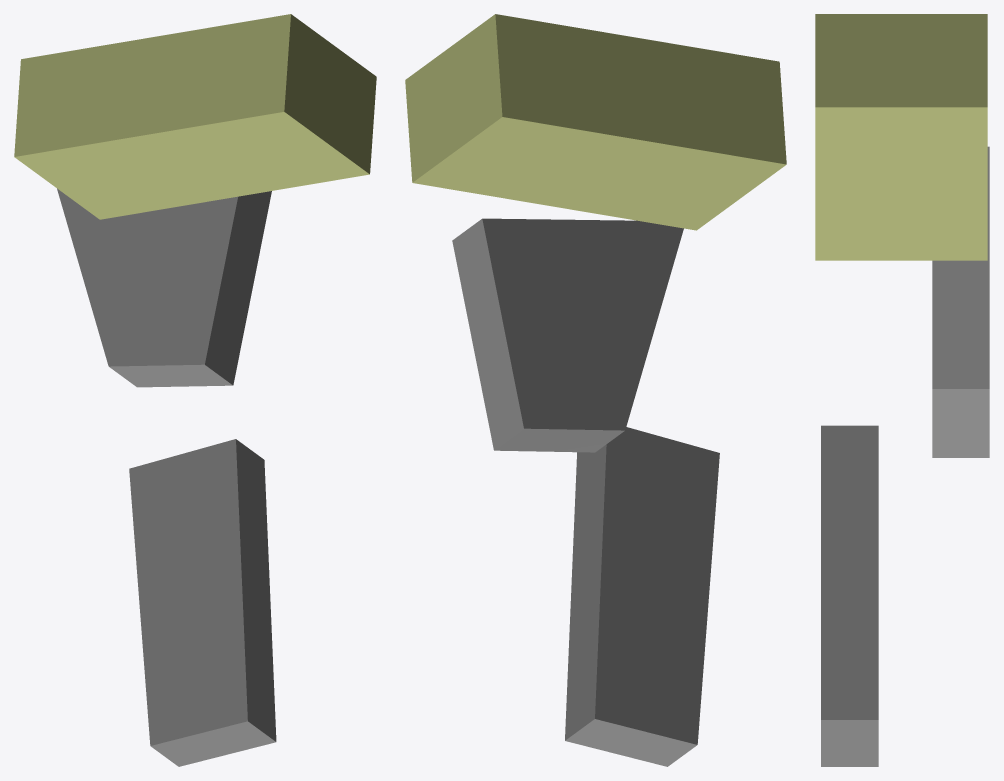
3 views of the same model, side by side, from view 1: azimuth 30°, elevation 25°; view 2: azimuth 150°, elevation 25°; view 3: azimuth 270°, elevation 25° (orthographic). The views are drawn at different scales.
Visible parts, largest first — view 1: 0_3_1_3_3_0_3_2_2; view 2: 0_3_1_3_3_0_3_2_2; view 3: 0_3_1_3_3_0_3_2_2.
Part boxes in pixels (x1,y1,x2,y2): 0_3_1_3_3_0_3_2_2: (14,14,376,766); 0_3_1_3_3_0_3_2_2: (405,14,786,766); 0_3_1_3_3_0_3_2_2: (815,14,989,766).
Bounding box in the file's own units: 16.79 × 38.56 × 9.1.
